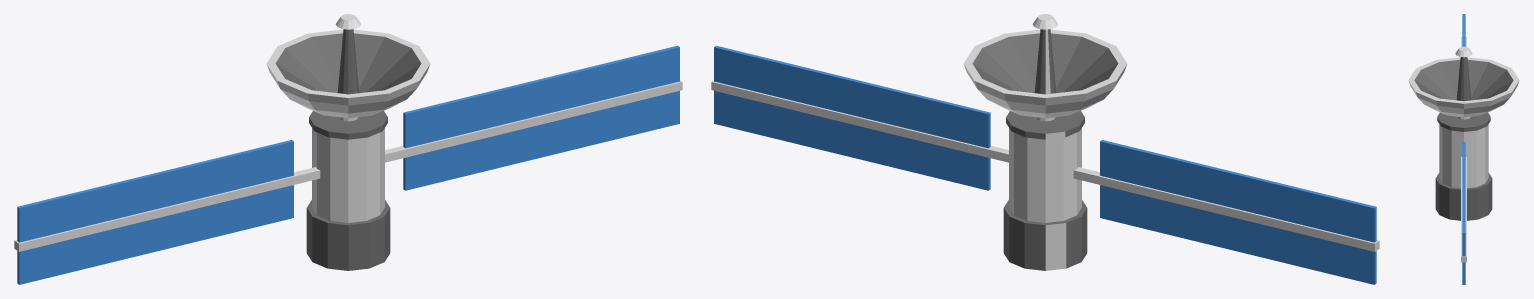
Rendered from satellite00.gltf.
3 views of the same model, side by side, from view 1: azimuth 30°, elevation 25°; view 2: azimuth 150°, elevation 25°; view 3: azimuth 270°, elevation 25° (orthographic). The views are drawn at different scales.
Parts seen in each view (by area): view 1: satellite00; view 2: satellite00; view 3: satellite00.
Part boxes in pixels (box(x1,y1,x2,y2)): satellite00: box(14, 14, 682, 284); satellite00: box(711, 14, 1379, 284); satellite00: box(1408, 14, 1519, 284).
Size of the model in its own units: 3.67 by 1.25 by 0.7854.
